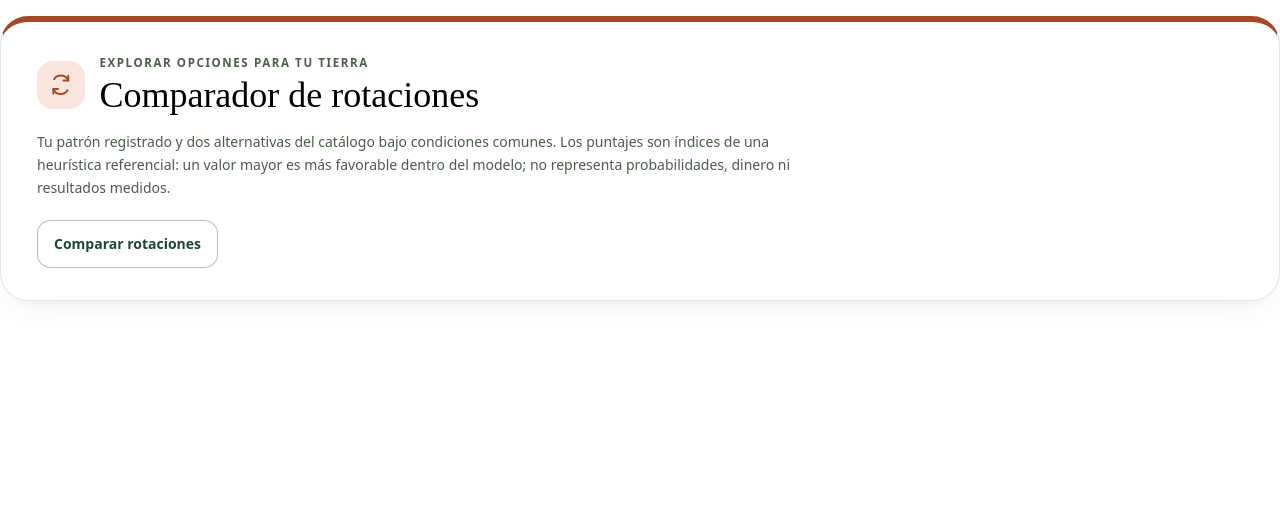
Test: Comparador: tres tarjetas, límites, errores y sesiones › rechaza una respuesta puntaje incorrecta
Click the button "Comparar rotaciones".
click(128, 244)  # box [37,220,218,268]
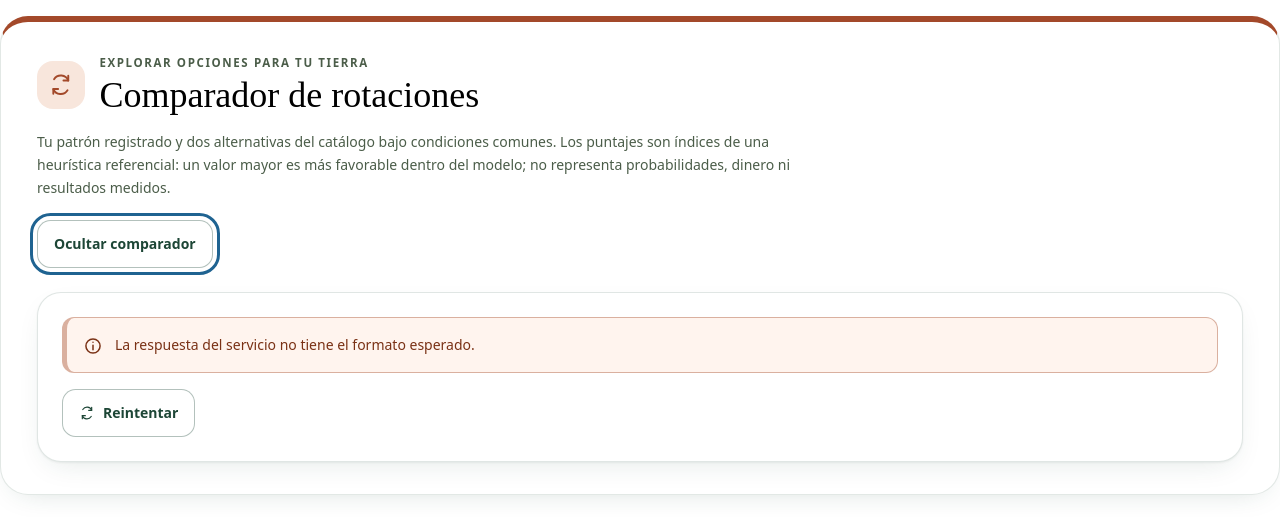
Check: the message "La respuesta del servicio no tiene el formato esperado." is shown, box [62,316,1218,372]
